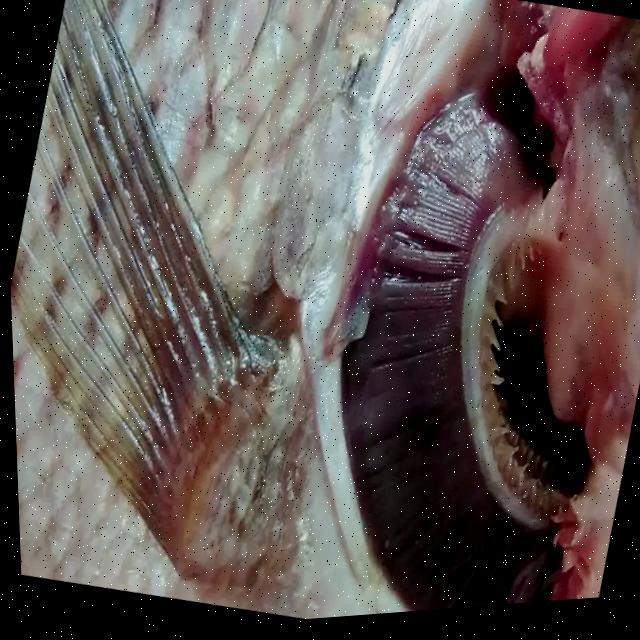Non-Fresh: (279, 57, 640, 593)
